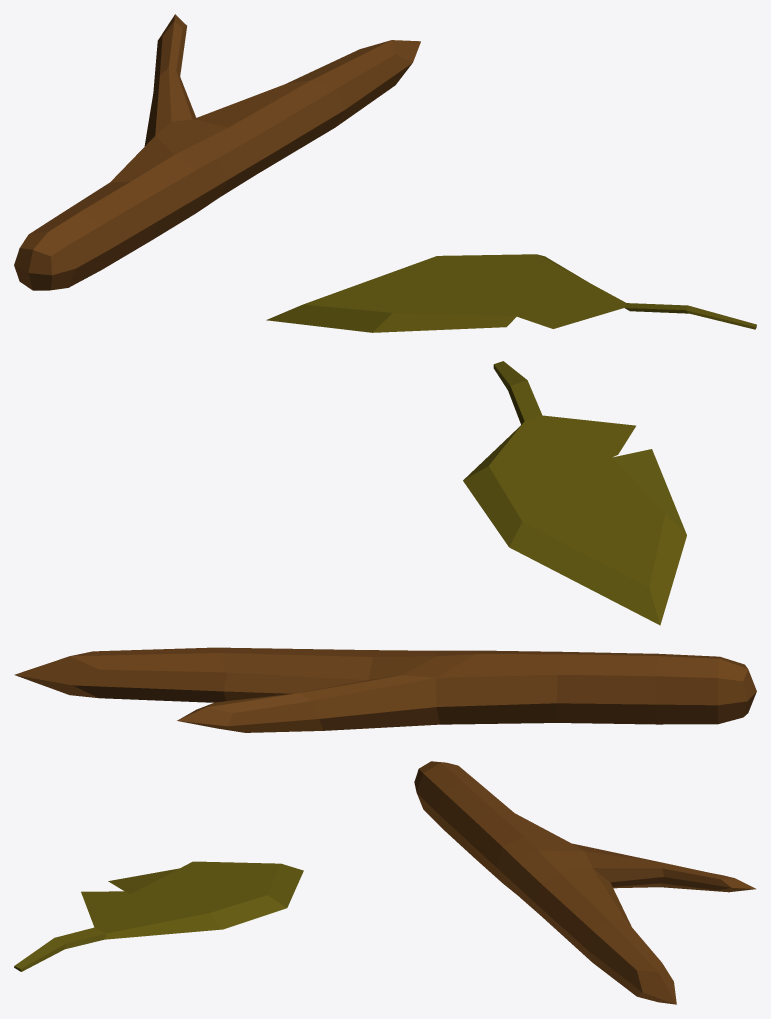
File: basura.fbx
3 renders of one model, top to bottom at view 1: azimuth 30°, elevation 25°; view 2: azimuth 150°, elevation 25°; view 3: azimuth 270°, elevation 25°, orthographic. The views are drawn at different scales.
Parts seen in each view (by area): view 1: Cube, Circle; view 2: Cube, Circle; view 3: Cube, Circle.
Part boxes in pixels (x1=…): Cube: x1=14, y1=14, x2=420, y2=290; Circle: x1=266, y1=254, x2=756, y2=332; Cube: x1=14, y1=647, x2=756, y2=732; Circle: x1=463, y1=361, x2=686, y2=625; Cube: x1=414, y1=761, x2=755, y2=1004; Circle: x1=14, y1=861, x2=303, y2=971.
Bounding box in the file's own units: 4.28 × 0.5377 × 6.02.
